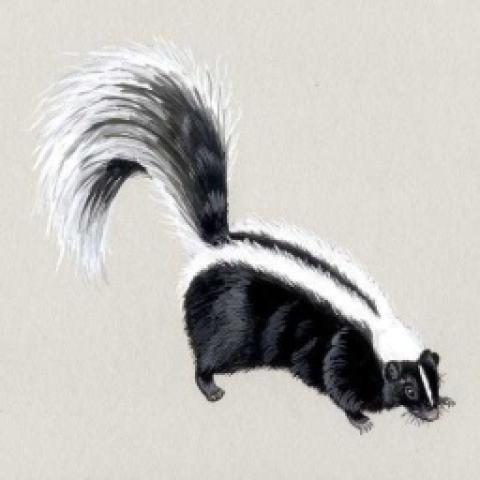small_animal: (28, 37, 458, 437)
